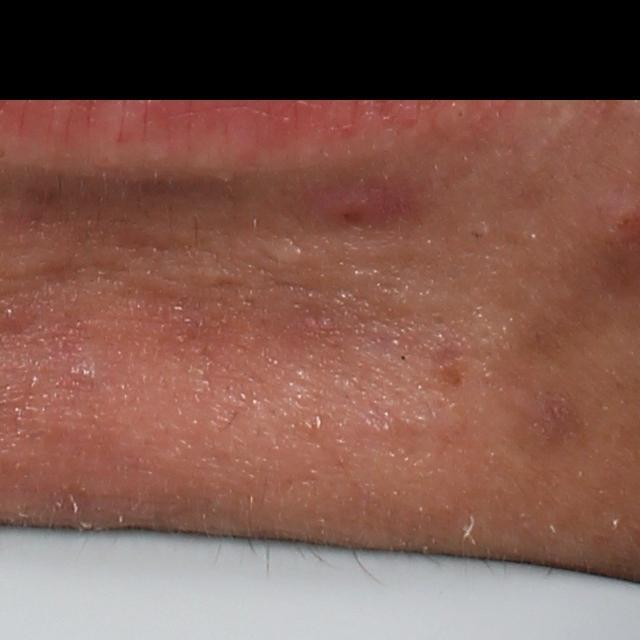hypertrophic_scar: (254, 234, 312, 266)
papule: (335, 188, 409, 223)
